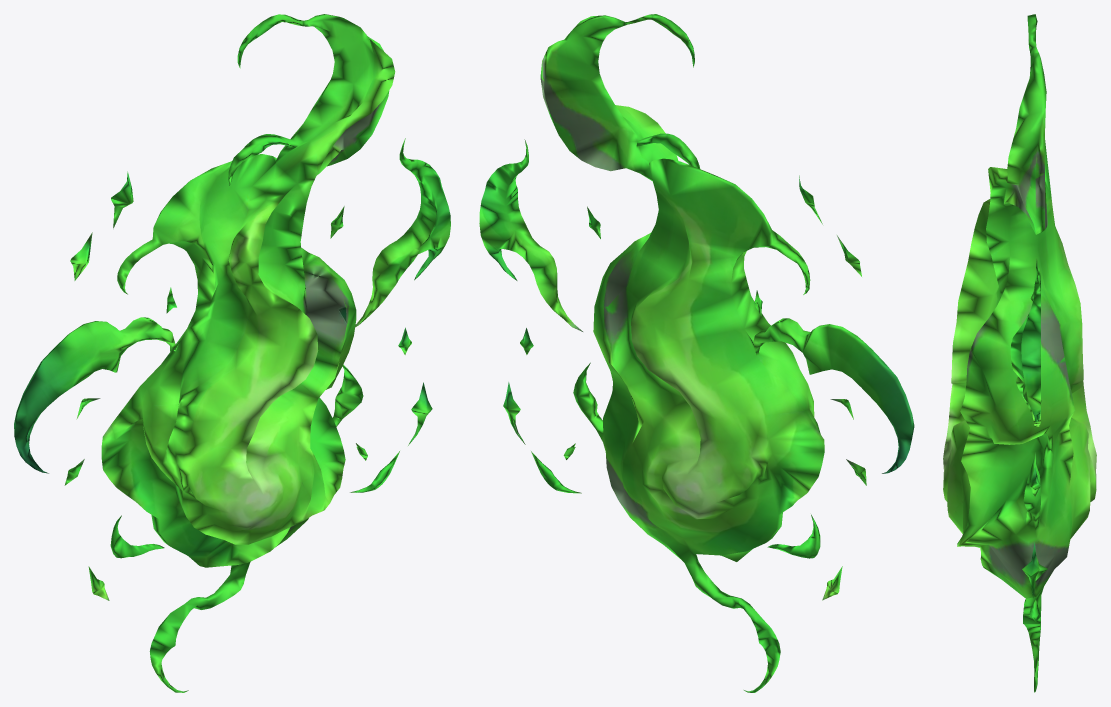
Rendered from seelenlicht_irrlicht.glb.
3 views of the same model, side by side, from view 1: azimuth 30°, elevation 25°; view 2: azimuth 150°, elevation 25°; view 3: azimuth 270°, elevation 25° (orthographic). The views are drawn at different scales.
Visible parts, largest first — view 1: baum; view 2: baum; view 3: baum.
Part boxes in pixels (x1,y1,x2,y2): baum: (14, 14, 450, 692); baum: (479, 14, 914, 692); baum: (943, 14, 1096, 692).
Bounding box in the file's own units: 0.554 × 0.8 × 0.1542.
Materials: 1 (1 with a texture image).
